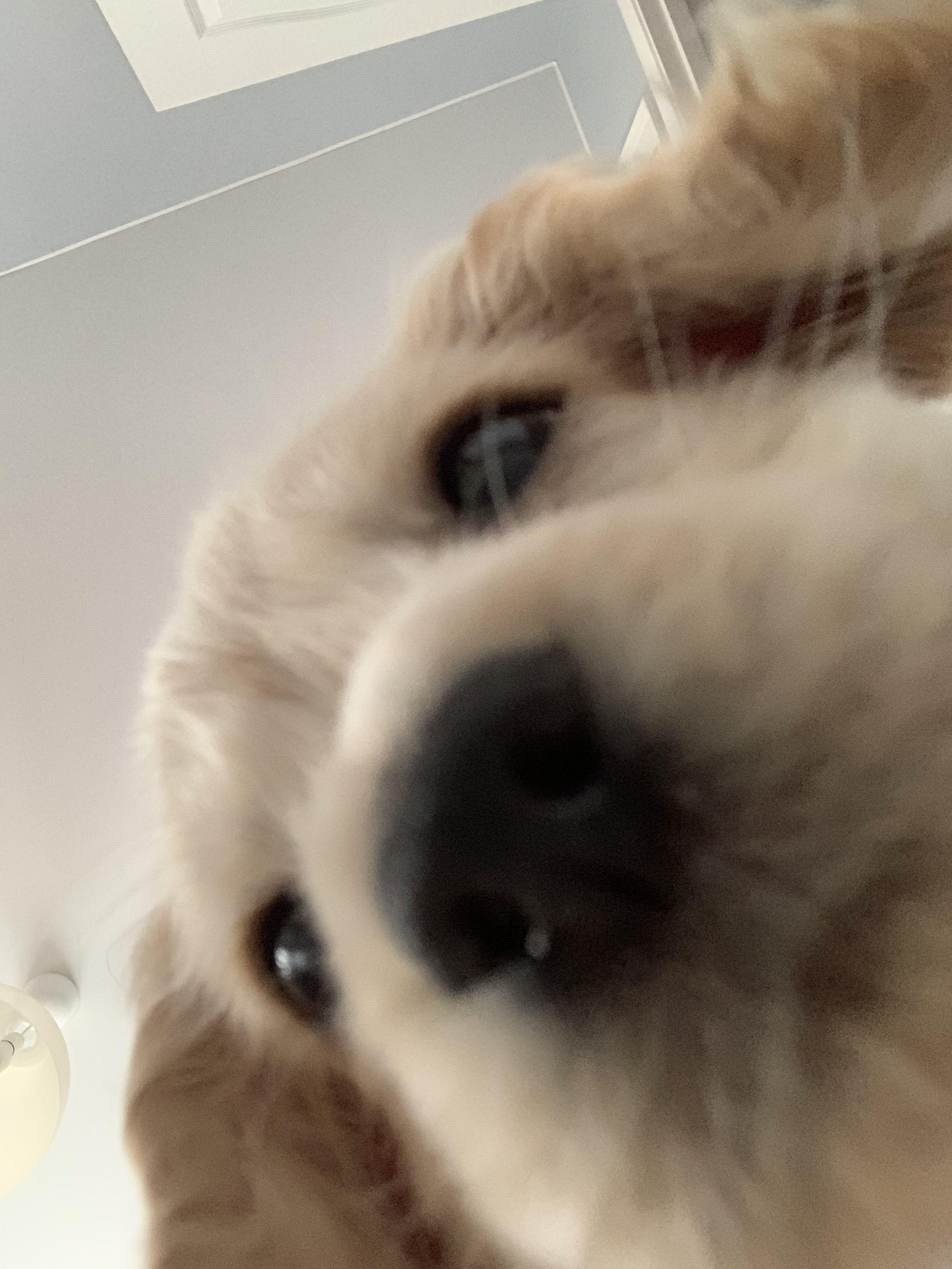adult_dog: (111, 0, 952, 1269)
